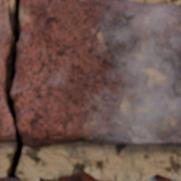brick: (40, 171, 97, 180), (148, 175, 175, 180), (0, 178, 17, 180)
broken_brick: (12, 0, 180, 148), (0, 0, 9, 84), (0, 90, 14, 142)
crack: (0, 0, 23, 180)
